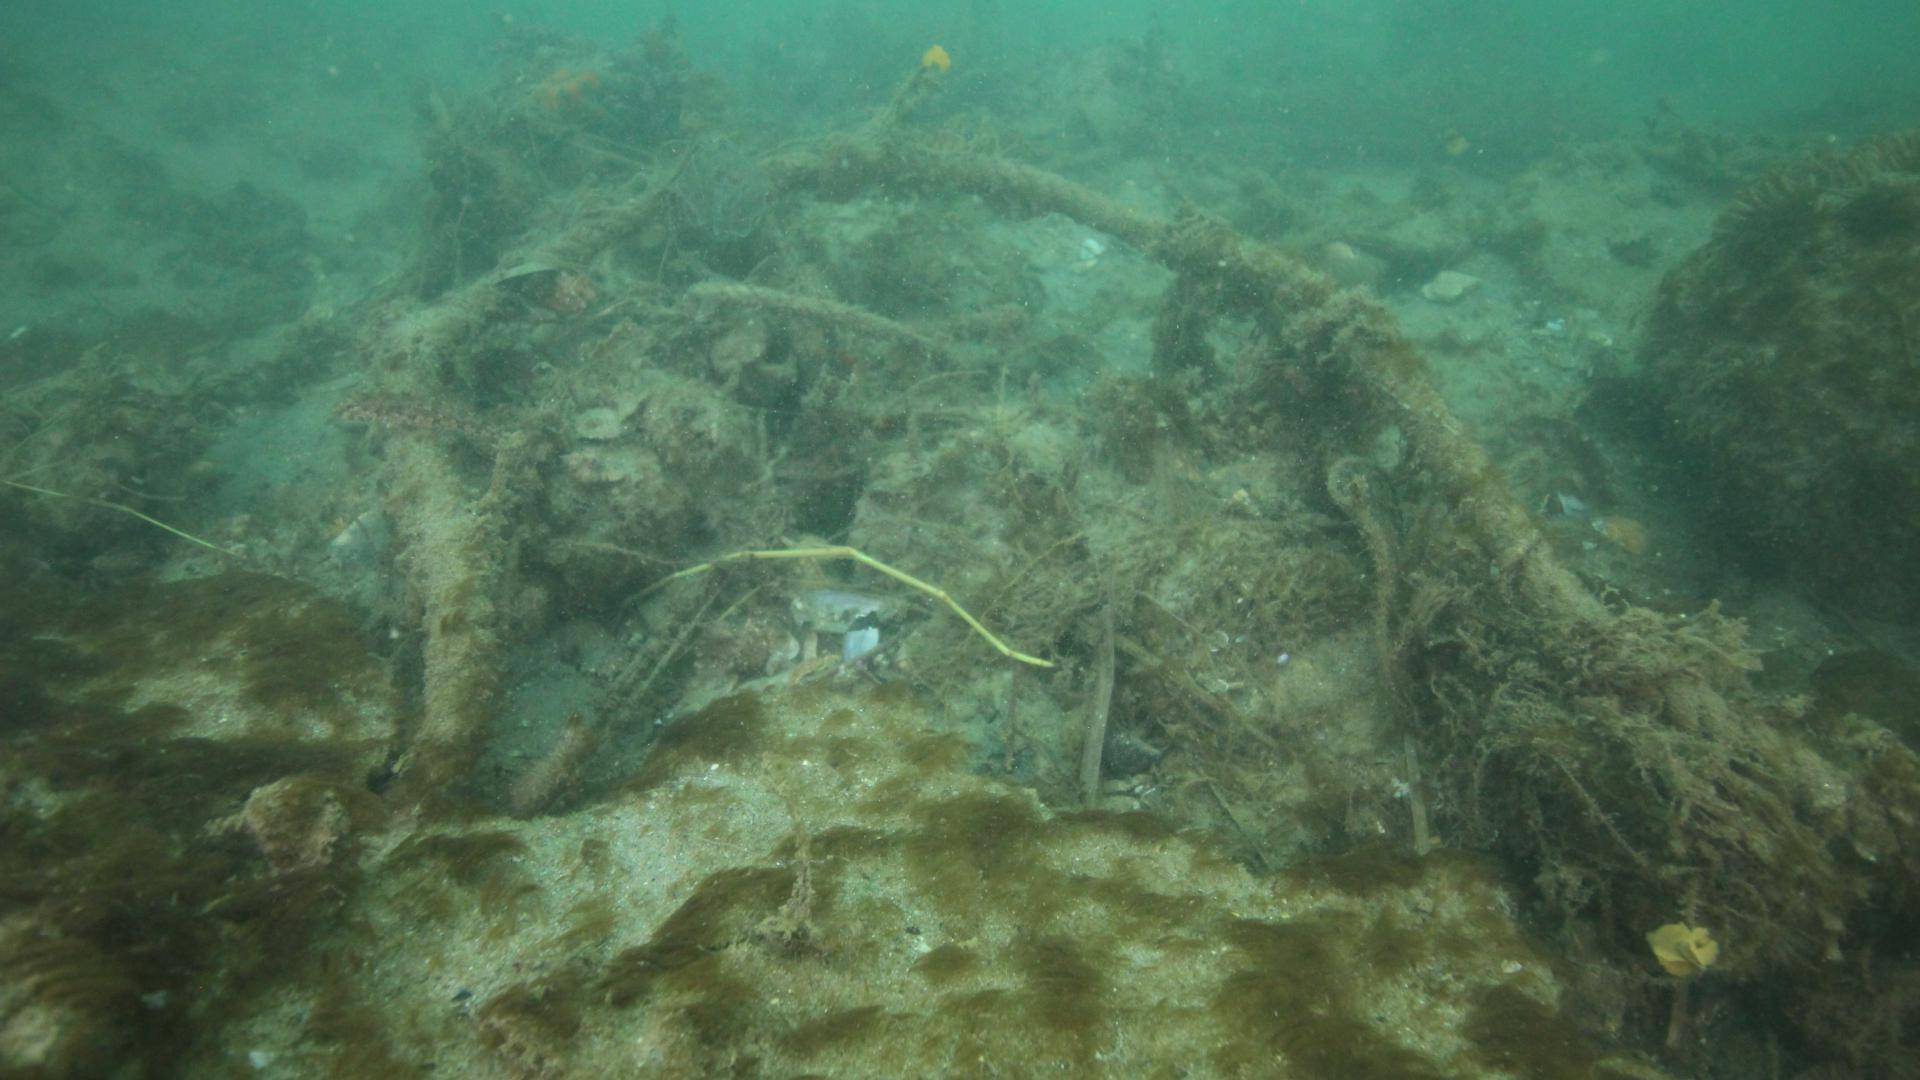bundle of ropes: (369, 132, 1855, 837)
